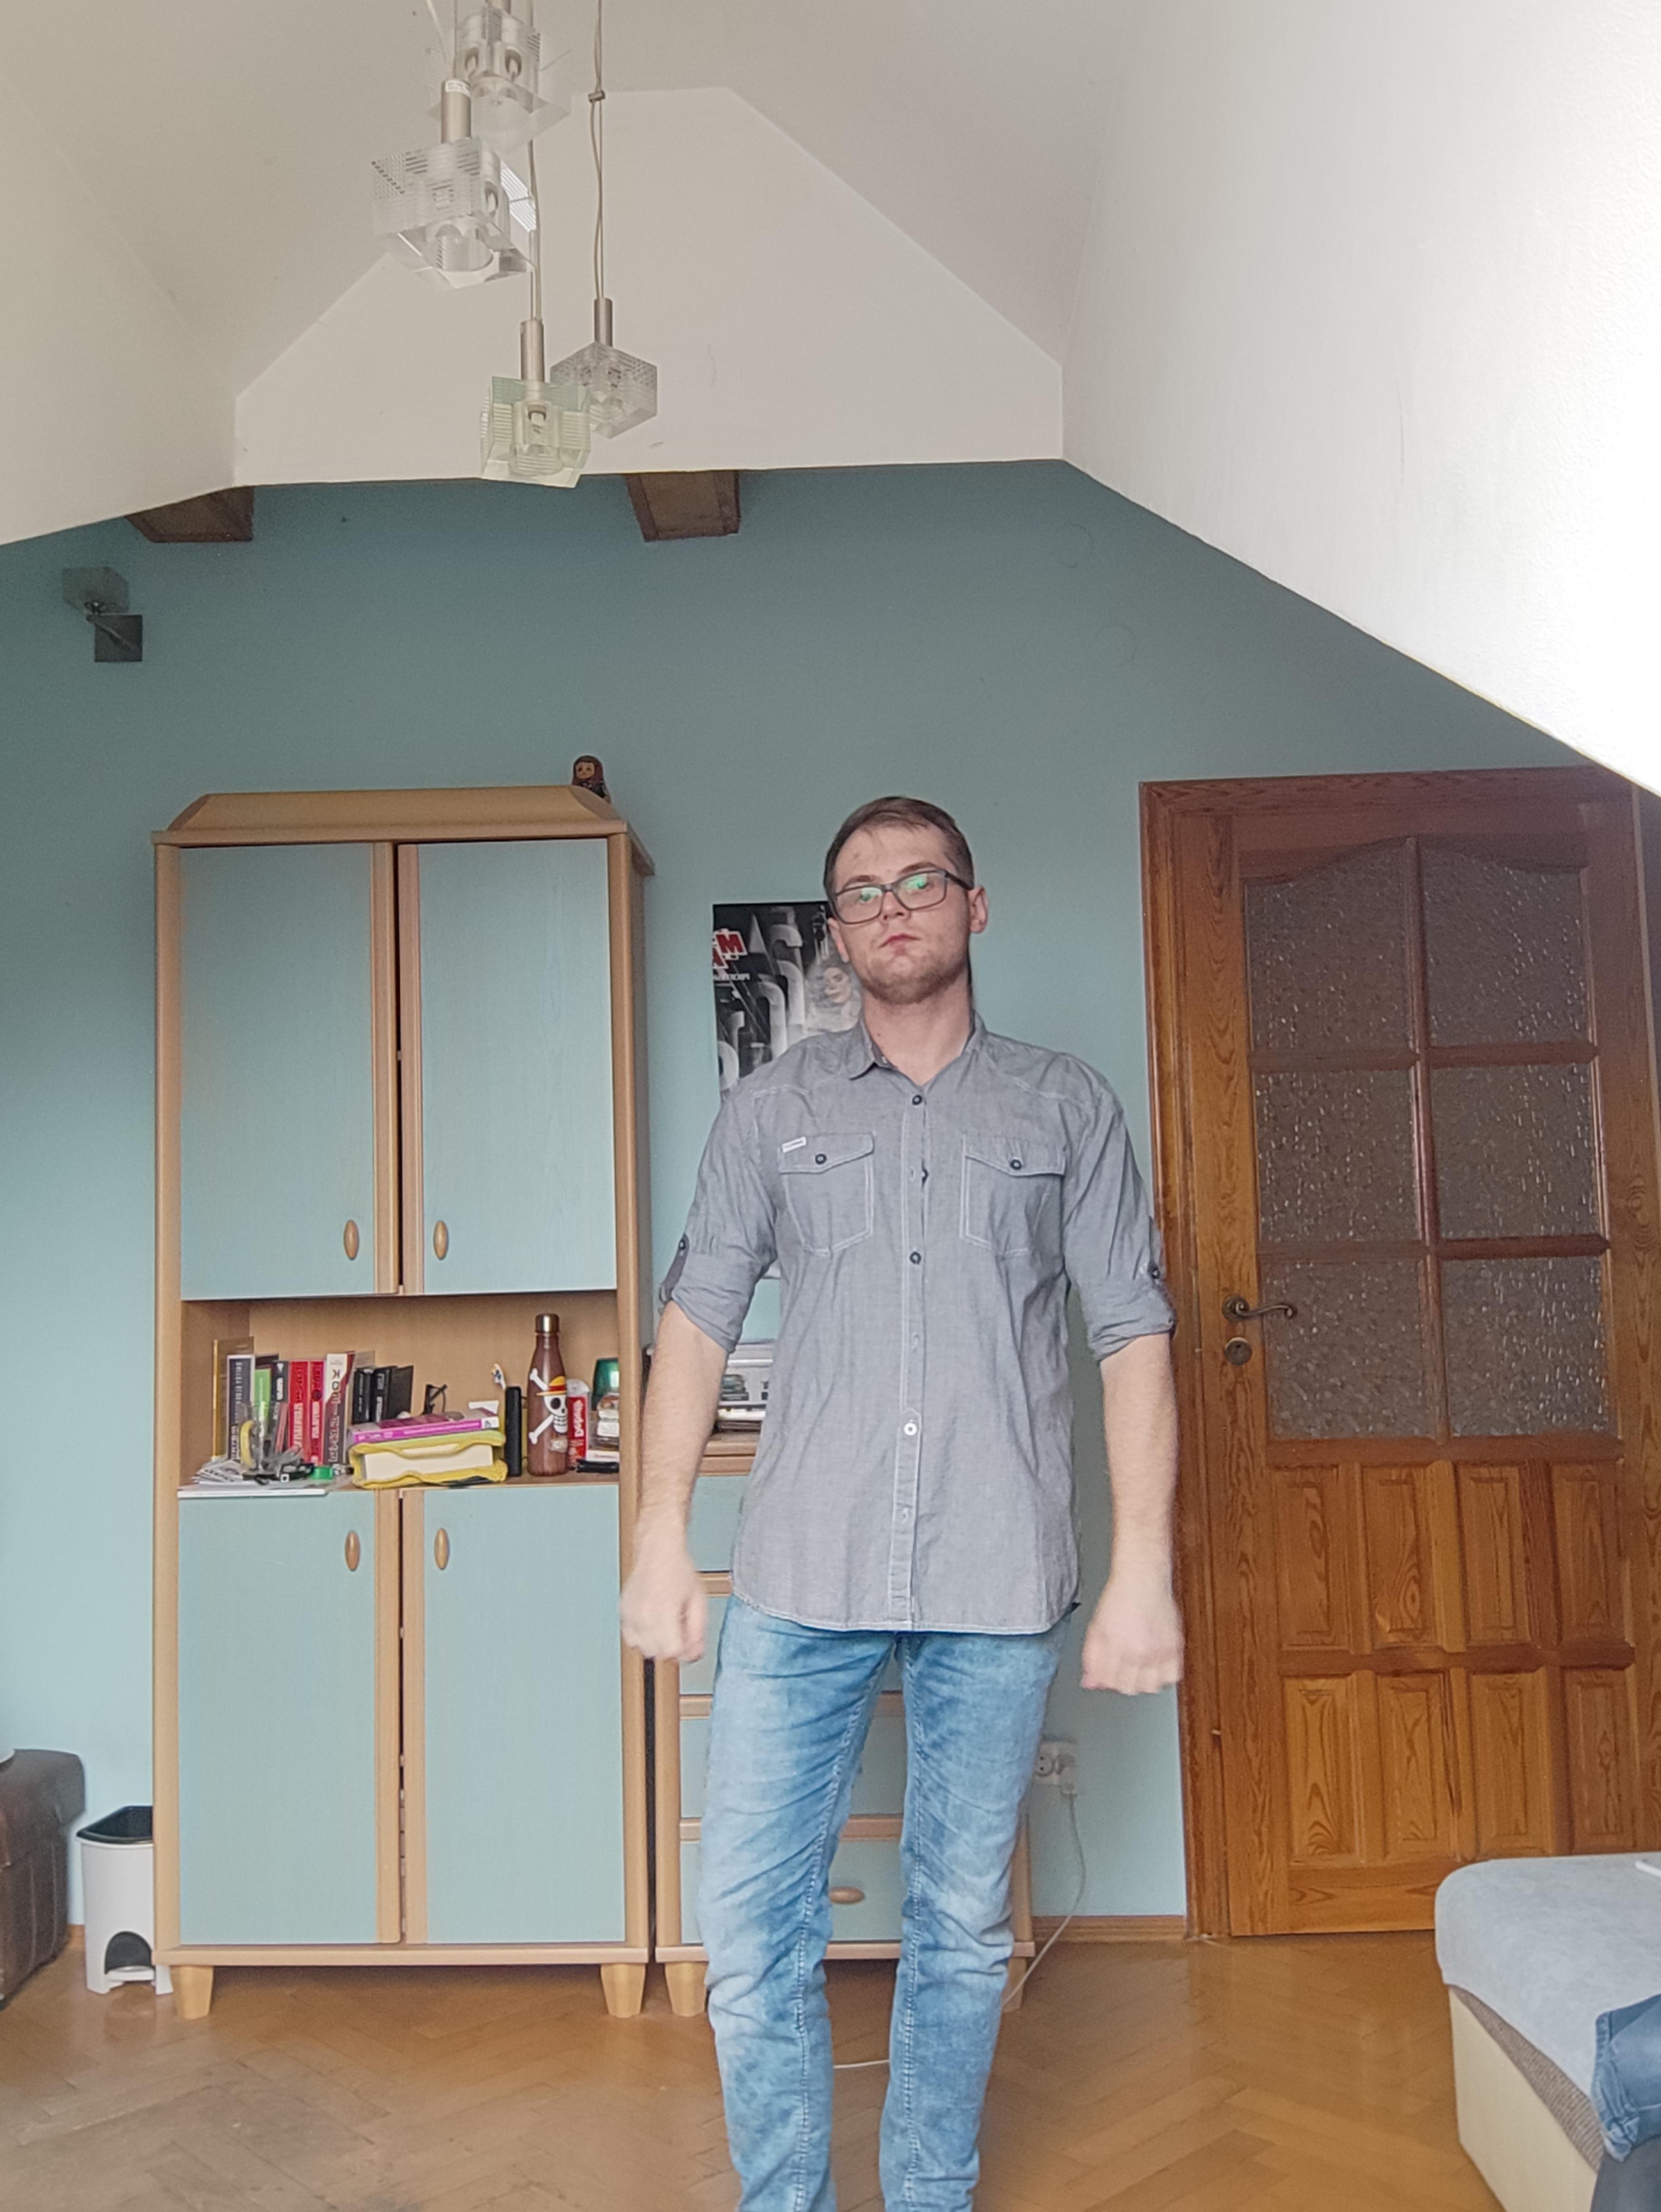pants: (703, 1535, 1061, 2212)
shirt: (660, 1008, 1179, 1633)
